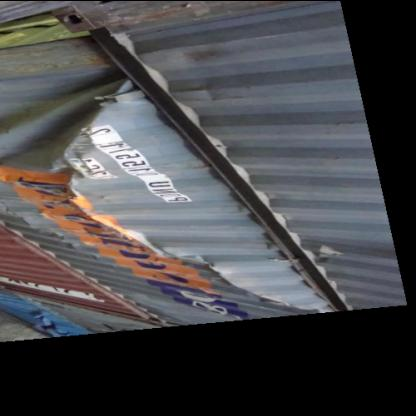Damage: (12, 172, 162, 300), (13, 76, 130, 160), (183, 241, 306, 317)
